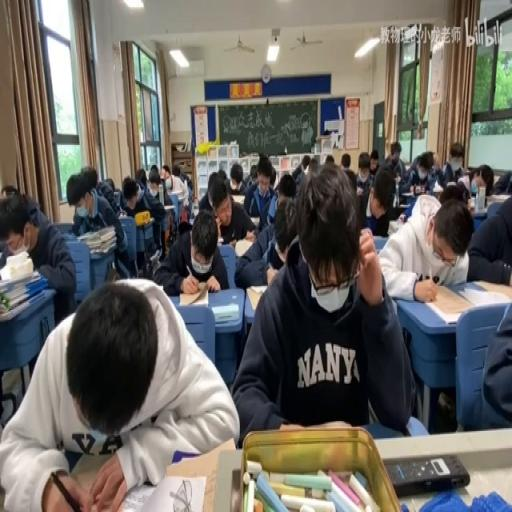calculator: (127, 473, 206, 512), (68, 449, 118, 502), (458, 282, 512, 308), (0, 266, 40, 294), (179, 279, 210, 304), (245, 283, 267, 310), (212, 300, 238, 322), (233, 236, 254, 256), (134, 213, 154, 226), (387, 219, 400, 235), (488, 193, 510, 202), (149, 249, 159, 266), (230, 193, 244, 205), (111, 189, 120, 205), (247, 215, 259, 226), (402, 189, 420, 196), (192, 198, 198, 216), (429, 188, 442, 196), (398, 202, 410, 209), (117, 209, 126, 218), (217, 236, 224, 245), (164, 204, 174, 210)
paper: (4, 277, 238, 509), (230, 158, 408, 444), (1, 191, 77, 337), (378, 192, 470, 300), (69, 168, 130, 283), (152, 208, 226, 296), (467, 186, 512, 284), (122, 170, 166, 264), (242, 155, 277, 230), (364, 166, 402, 235), (163, 161, 188, 230), (400, 148, 438, 193), (436, 141, 466, 186), (274, 208, 296, 258), (382, 141, 404, 179), (354, 151, 373, 193), (436, 183, 466, 205), (228, 160, 246, 194), (292, 154, 310, 186), (276, 170, 295, 200), (402, 195, 422, 219), (478, 165, 494, 193), (80, 164, 98, 186), (134, 166, 148, 190), (147, 164, 160, 188), (342, 168, 356, 190), (205, 170, 217, 194), (0, 182, 18, 195), (430, 154, 440, 174), (308, 156, 318, 174), (182, 172, 191, 191), (248, 165, 258, 181), (104, 176, 114, 192), (161, 164, 171, 180), (269, 164, 276, 186), (341, 152, 350, 168), (171, 162, 181, 176), (370, 151, 378, 165), (216, 168, 226, 179), (324, 154, 334, 164), (322, 128, 330, 134)
person: (383, 452, 469, 496)
